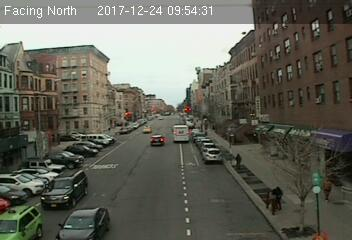car: (40, 169, 89, 211), (55, 208, 111, 240), (203, 146, 220, 162), (149, 135, 165, 146)
pedestrian: (234, 153, 241, 170)
truck: (173, 124, 189, 143)
